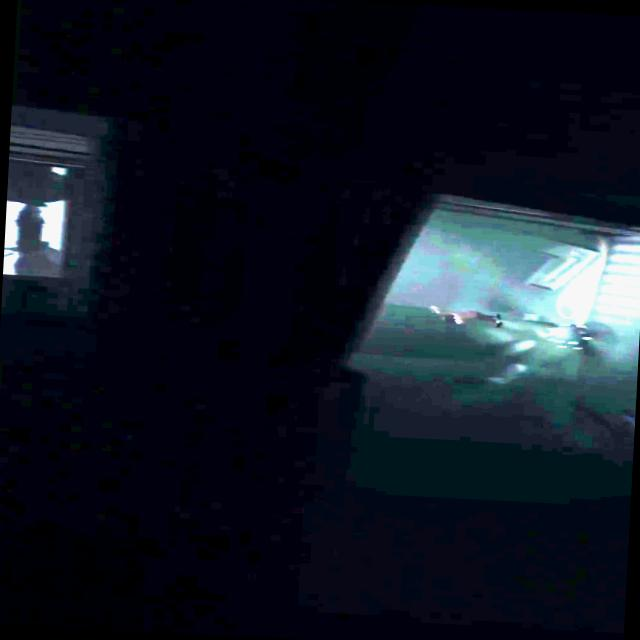boy: (431, 302, 502, 330)
